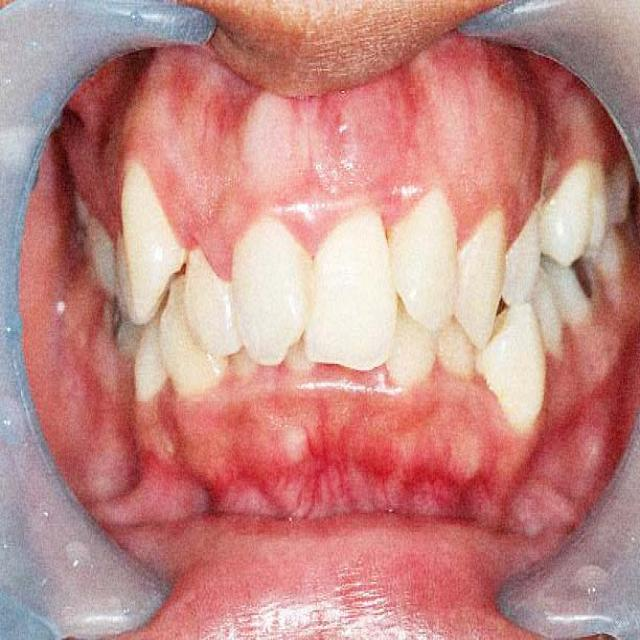caries: (573, 257, 601, 308), (102, 290, 126, 346)
